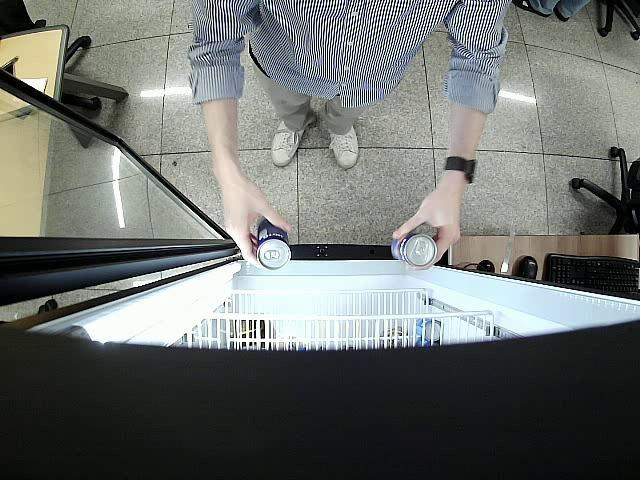16_hot6: (255, 218, 291, 270), (390, 234, 438, 267)
